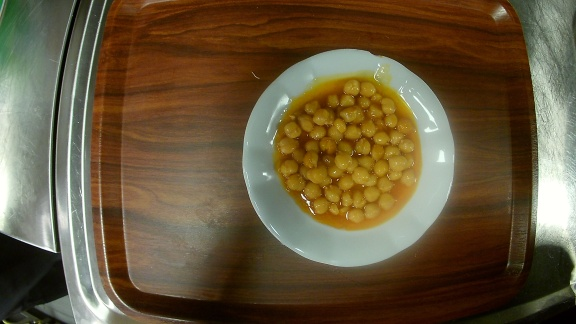sulunohut: (242, 48, 457, 269)
